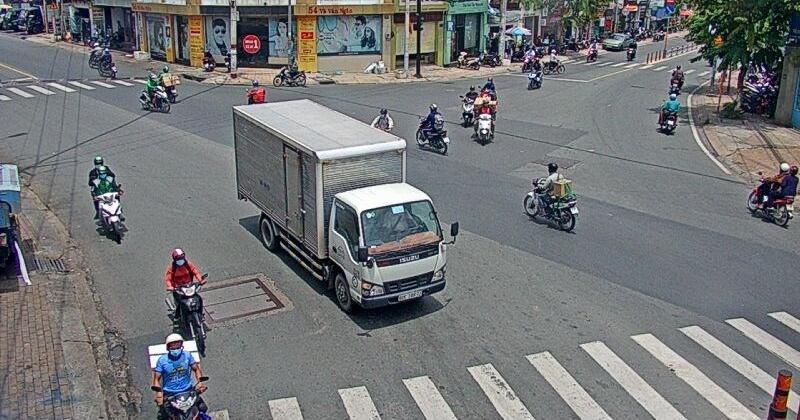xe may: (162, 242, 215, 356), (144, 331, 209, 420), (526, 160, 580, 233), (88, 153, 127, 246), (748, 162, 800, 227), (413, 103, 449, 155), (138, 71, 171, 114), (472, 93, 497, 145), (272, 56, 307, 87)
xe tai: (229, 99, 452, 316)
